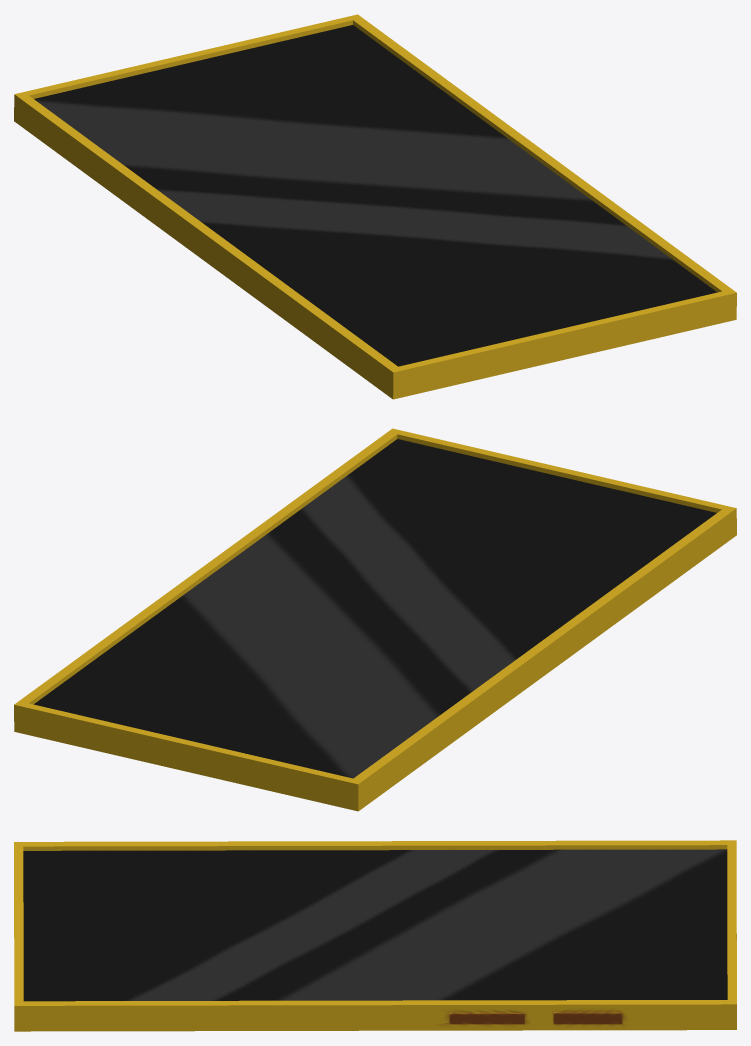
File: Cell.fbx
3 views of the same model, one above another, from view 1: azimuth 30°, elevation 25°; view 2: azimuth 150°, elevation 25°; view 3: azimuth 270°, elevation 25° (orthographic). The views are drawn at different scales.
Visible parts, largest first — view 1: Cell.001; view 2: Cell.001; view 3: Cell.001.
Boxes of the visible parts, bbox=[...] form: Cell.001: bbox=[14, 14, 736, 399]; Cell.001: bbox=[14, 428, 736, 811]; Cell.001: bbox=[14, 840, 736, 1031].
Bounding box in the file's own units: 8.89 × 0.8763 × 16.8.
